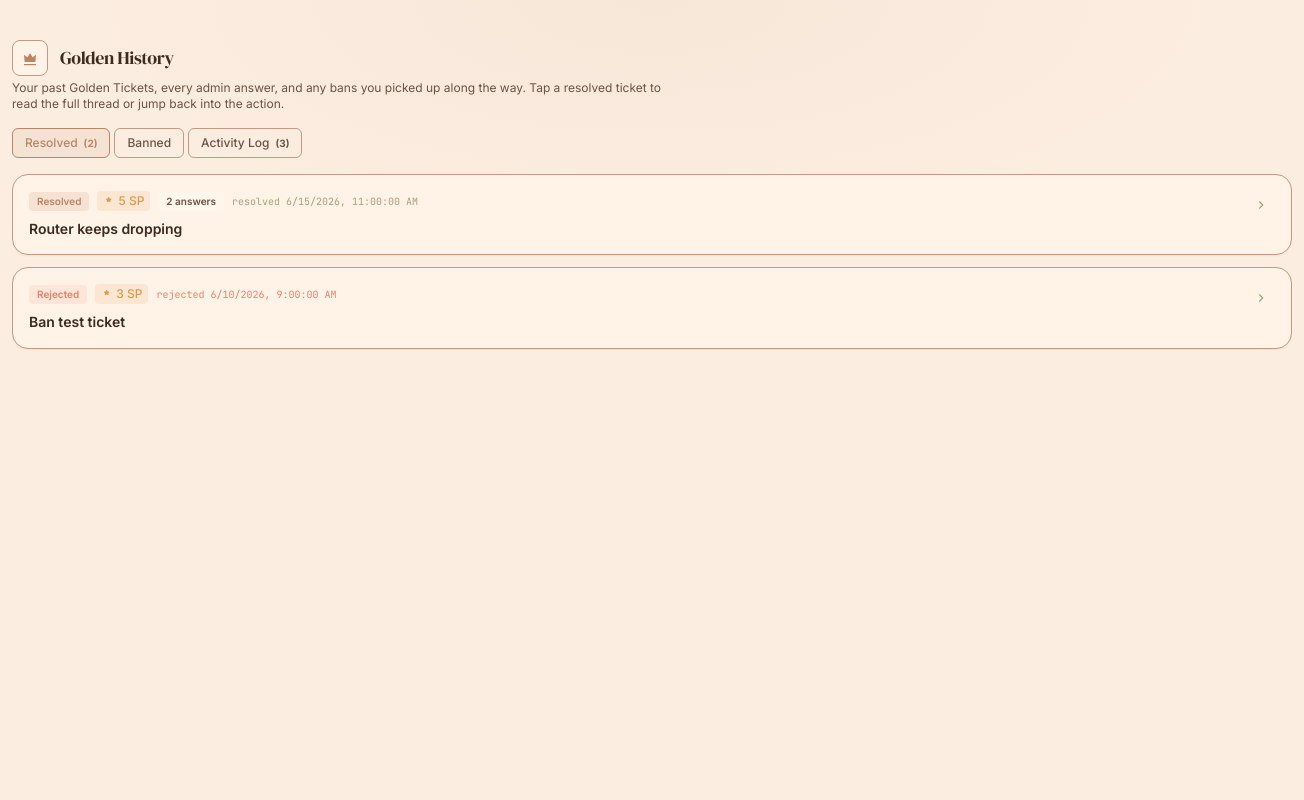
GoldenHistorySection › expands a Resolved card to reveal the admin answers
Click the button "Router keeps dropping".
click(59, 201)  # box [13,175,1291,254]
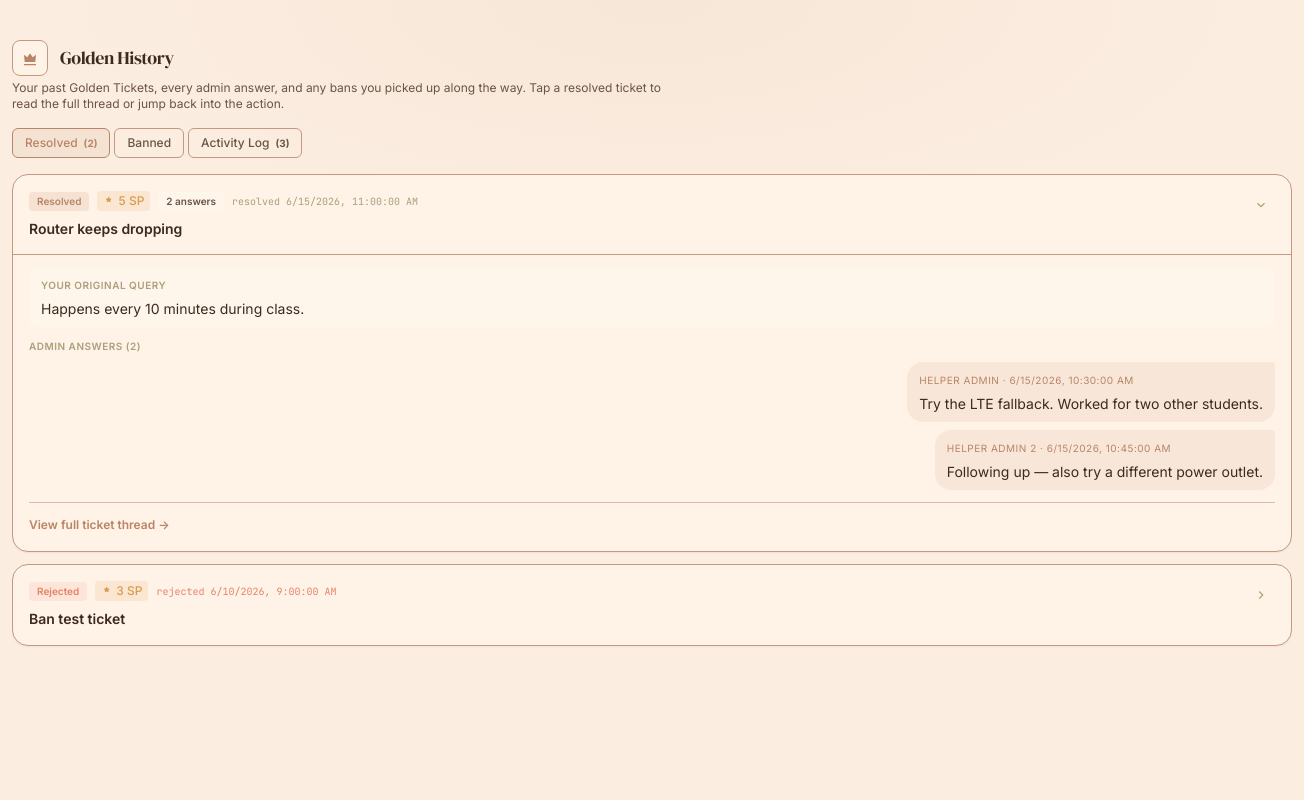
Now the text "Try the LTE fallback." is shown, box [919,395,1263,412]
Now the text "also try a different power outlet." is shown, box [947,463,1263,480]
